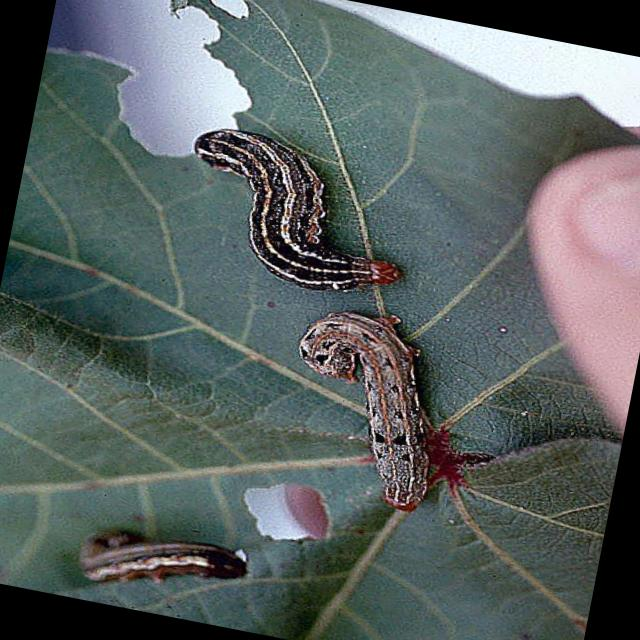Armyworm: (164, 118, 449, 321), (262, 298, 512, 528), (42, 506, 260, 623)
Armyworm_damage: (29, 1, 356, 207), (236, 457, 369, 563)
